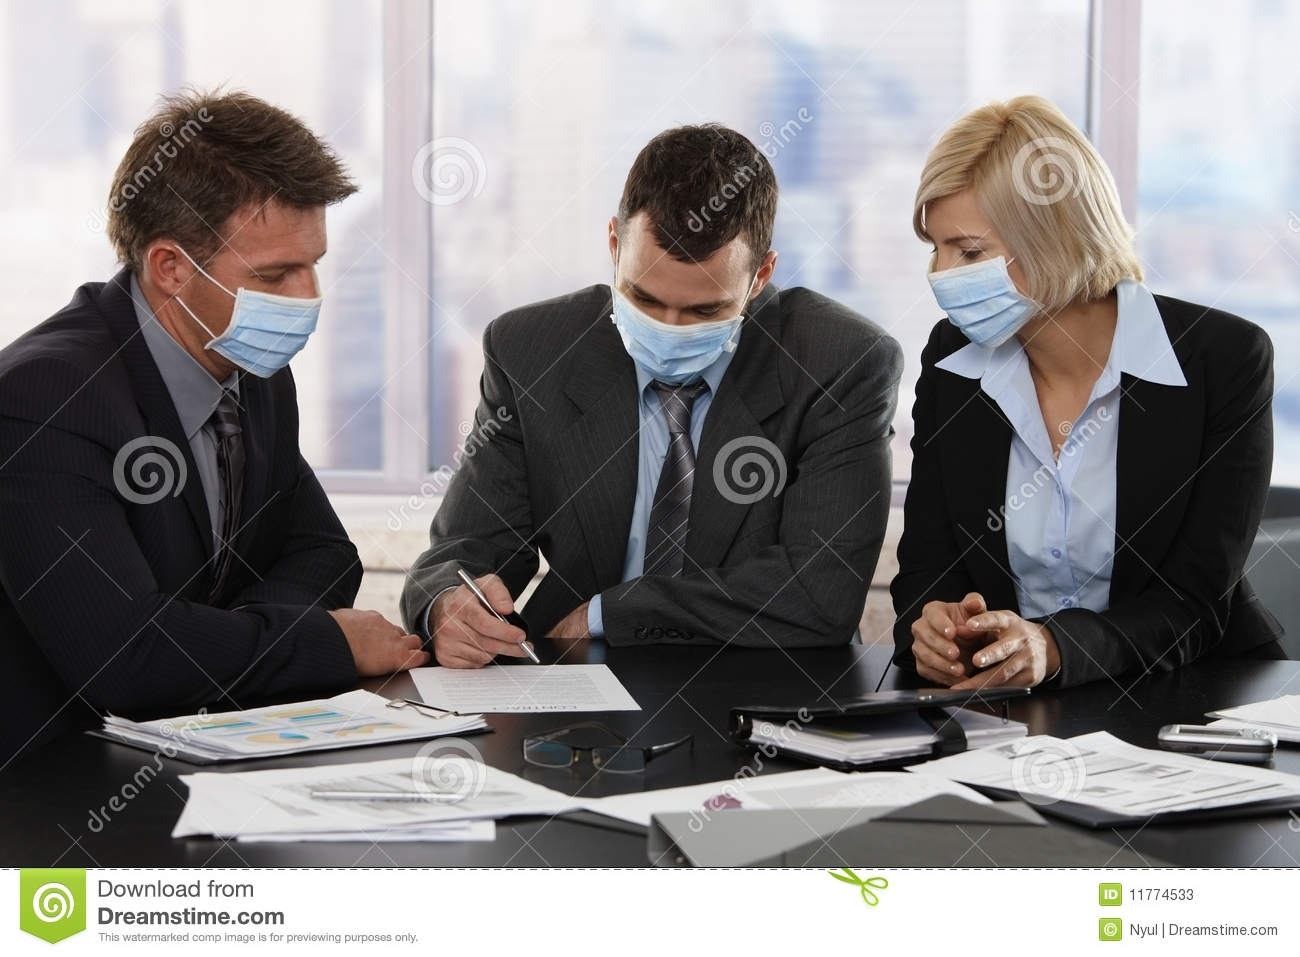mask: (612, 289, 738, 389), (208, 289, 322, 385), (929, 265, 1042, 356)
